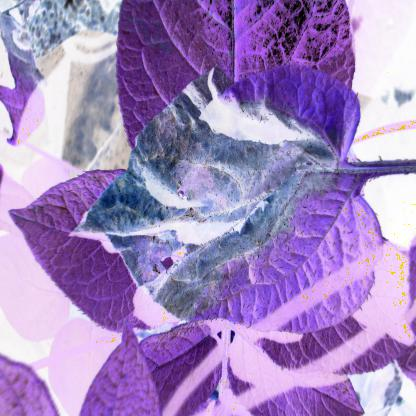potato leaf early blight: (79, 61, 368, 328)
